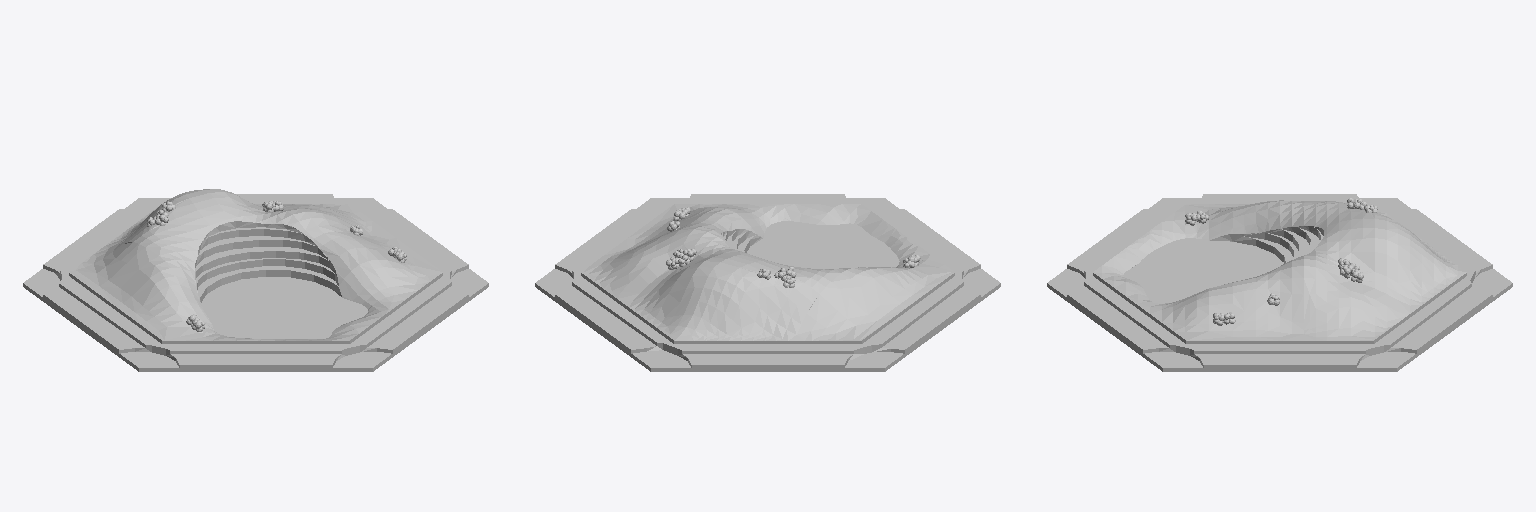
Rendered from Ore-2.obj.
The picture shows the model from 3 angles: view 1: azimuth 30°, elevation 25°; view 2: azimuth 150°, elevation 25°; view 3: azimuth 270°, elevation 25°; orthographic projection.
Parts seen in each view (by area): view 1: Field, Hex_Border; view 2: Field, Hex_Border; view 3: Field, Hex_Border.
Part boxes in pixels (x1,y1,x2,y2): Field: (69, 189, 442, 343); Hex_Border: (23, 194, 488, 371); Field: (581, 204, 954, 343); Hex_Border: (535, 194, 1000, 371); Field: (1093, 198, 1466, 343); Hex_Border: (1047, 194, 1512, 371).
Size of the model in its own units: 79.08 by 13.4 by 91.31.